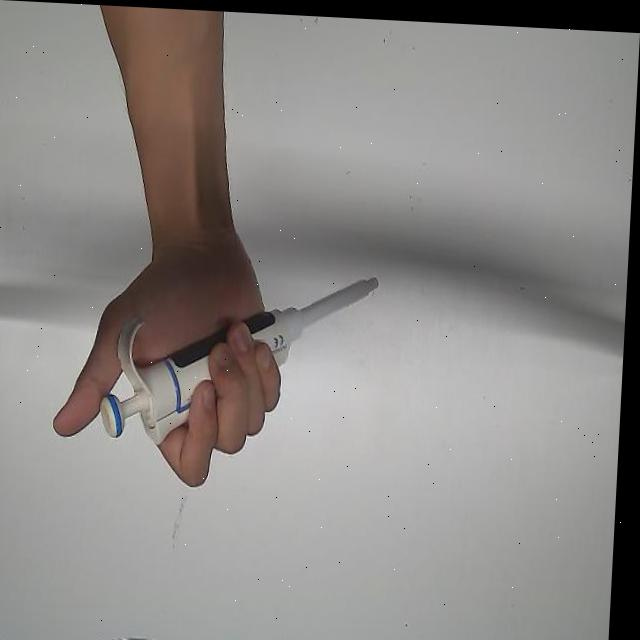Single Channel Pipettor: (98, 256, 385, 457)
